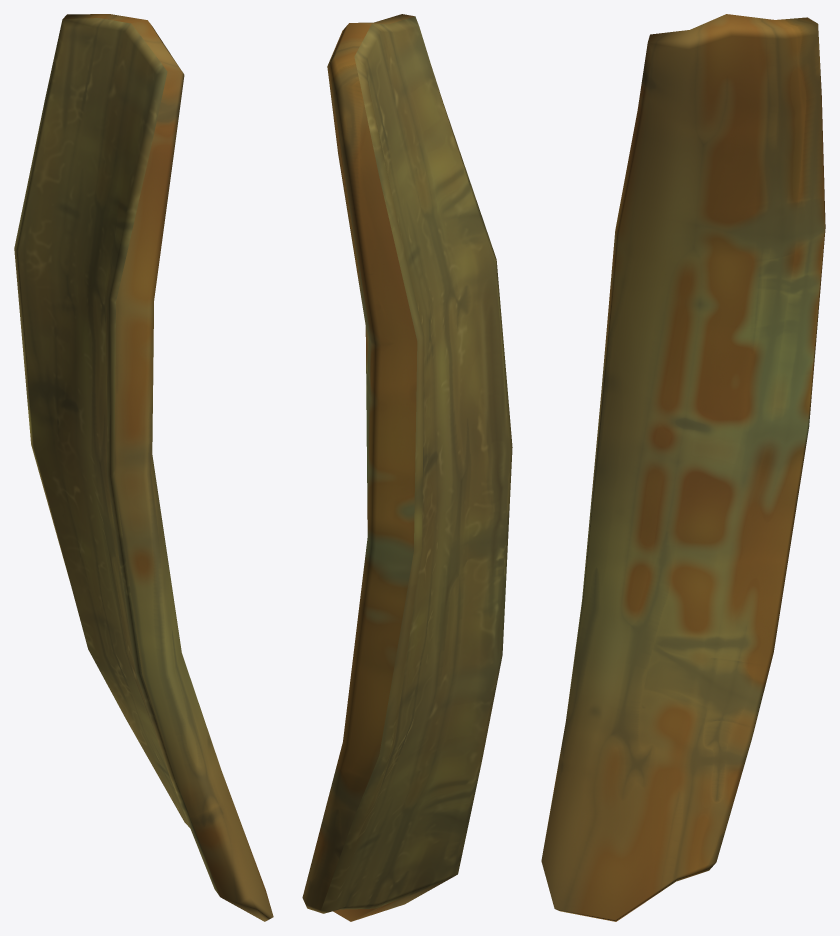
File: env_forest_gianttree_barkchunk02.fbx
3 views of the same model, side by side, from view 1: azimuth 30°, elevation 25°; view 2: azimuth 150°, elevation 25°; view 3: azimuth 270°, elevation 25° (orthographic). The views are drawn at different scales.
Visible parts, largest first — view 1: barkchunk02; view 2: barkchunk02; view 3: barkchunk02.
Part boxes in pixels (left/top/right/bottom): barkchunk02: left=14, top=14, right=273, bottom=921; barkchunk02: left=302, top=14, right=512, bottom=921; barkchunk02: left=541, top=14, right=825, bottom=921.
Size of the model in its own units: 8.61 by 43.84 by 12.95.
